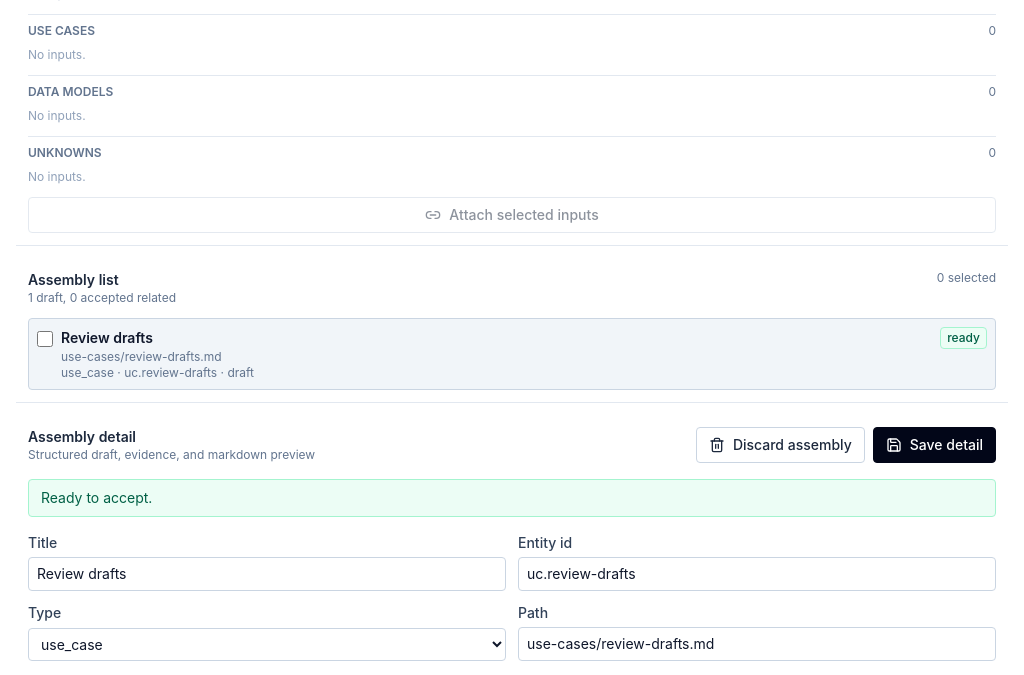
Test case: AnalyzeRunReviewPage › surfaces accept response failures
(page scrolled)
What coordinates should you click on to do the following:
click the checkbox named "Select assembly Review drafts"
I would click on:
 (45, 339)
Its box is [37,331,53,347].
(page scrolled)
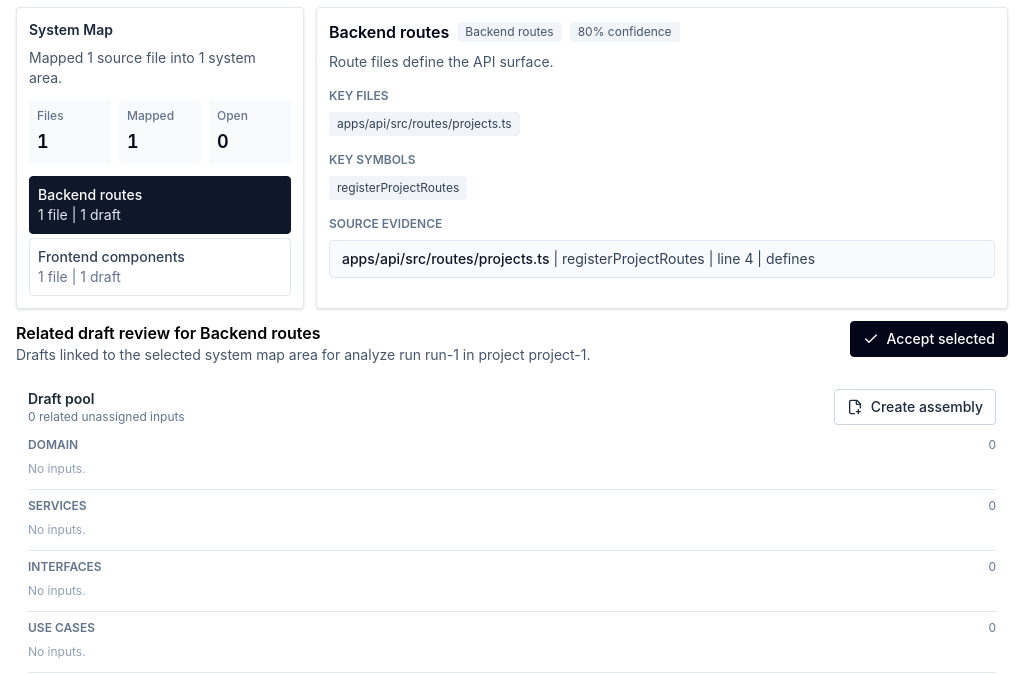
What coordinates should you click on to do the following:
click the button "Accept selected"
I would click on:
 (929, 339)
Its box is [850,321,1008,357].
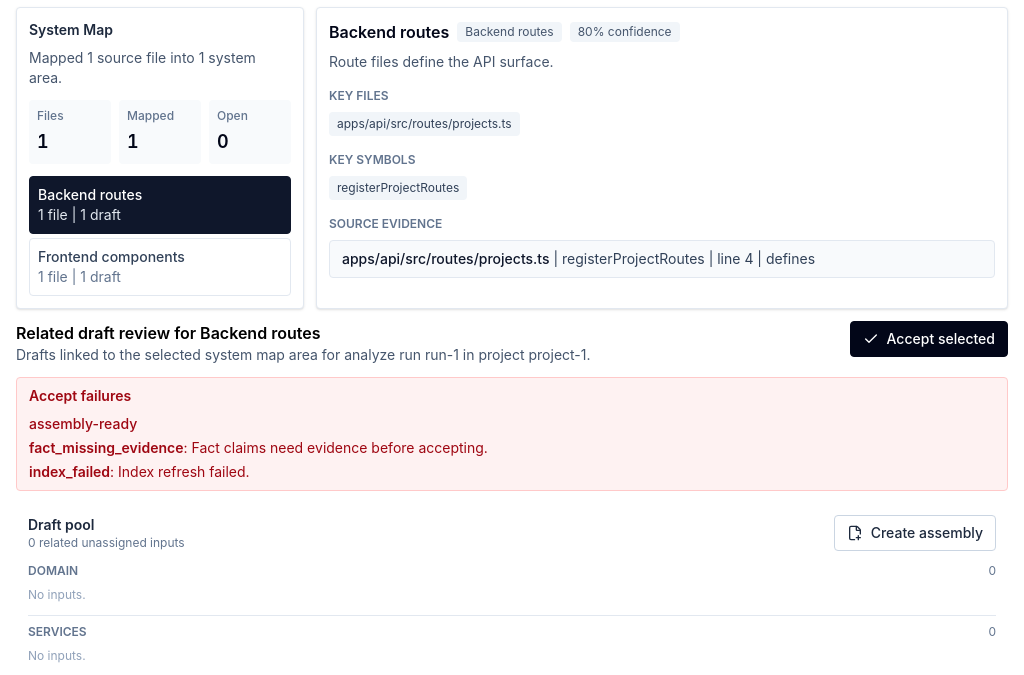
expect the text "Accept failures" is shown: met, box [29,387,131,404]
expect the text "fact_missing_evidence" is shown: met, box [29,439,184,456]
expect the text "index_failed" is shown: met, box [29,463,110,480]
